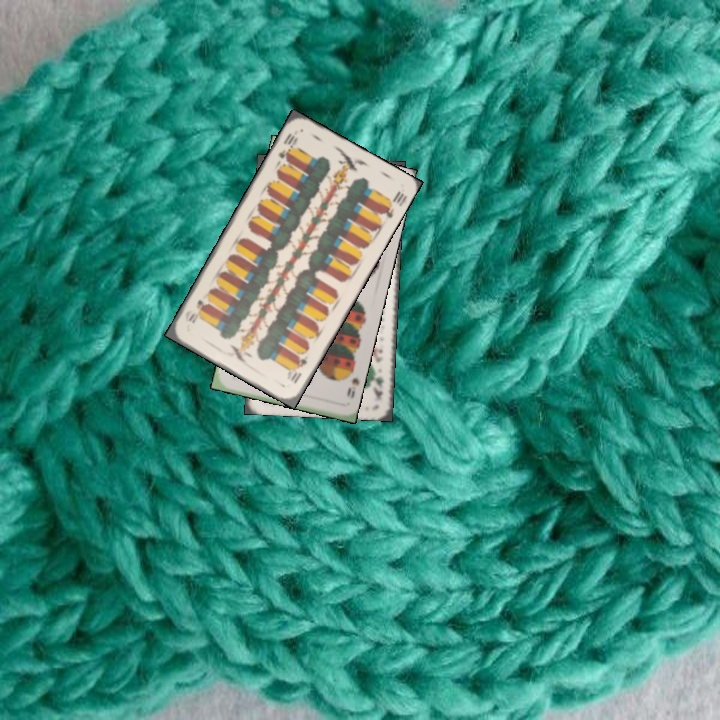E10: (274, 129, 301, 164), (286, 352, 310, 386)
GK: (369, 364, 386, 401)
S9: (340, 364, 357, 399)
